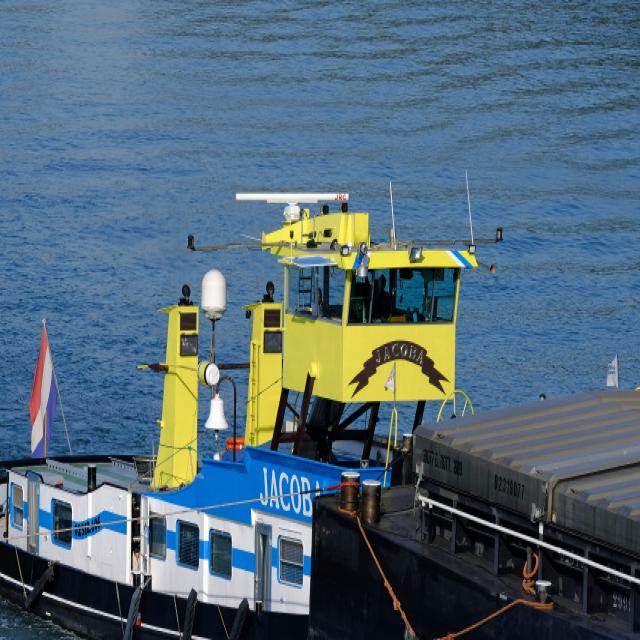tugboat: (1, 186, 500, 640)
